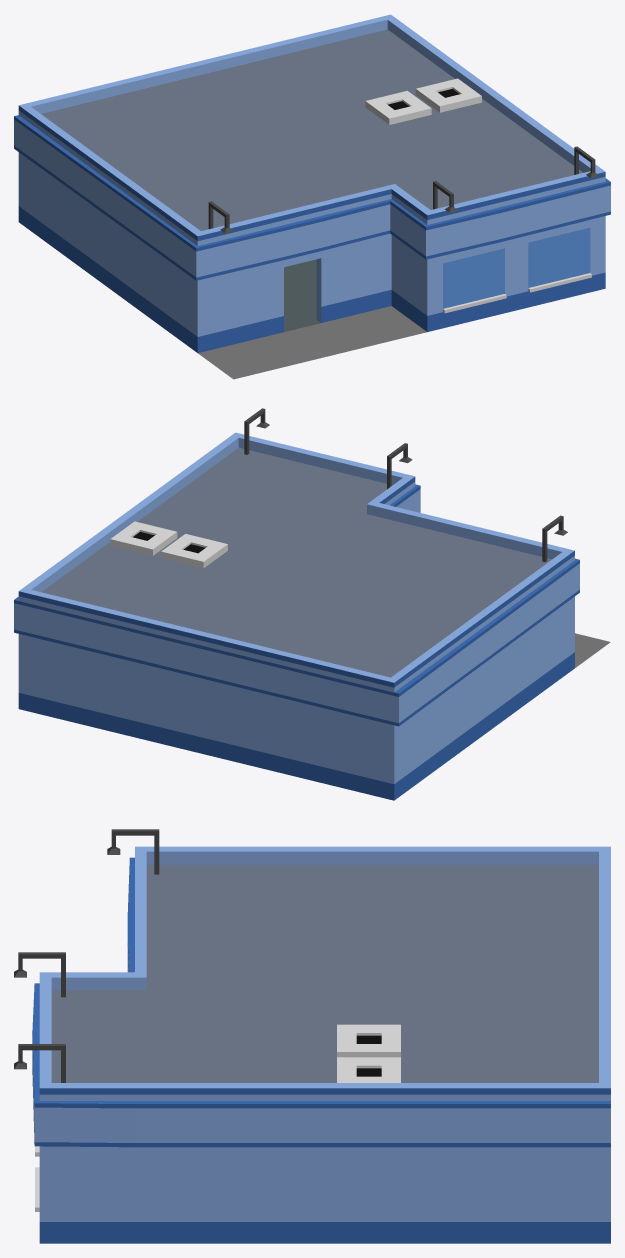
The model's file is Building4.fbx.
3 views of the same model, one above another, from view 1: azimuth 30°, elevation 25°; view 2: azimuth 150°, elevation 25°; view 3: azimuth 270°, elevation 25° (orthographic). The views are drawn at different scales.
Visible parts, largest first — view 1: Building4, Building4Roof; view 2: Building4, Building4Roof; view 3: Building4, Building4Roof.
Boxes of the visible parts, left/top/right/bottom form: Building4: left=14, top=14, right=610, bottom=379; Building4Roof: left=41, top=29, right=599, bottom=233; Building4: left=14, top=432, right=610, bottom=800; Building4Roof: left=41, top=408, right=567, bottom=677; Building4: left=32, top=846, right=610, bottom=1243; Building4Roof: left=14, top=829, right=598, bottom=1082.
Bounding box in the file's own units: 1230 × 430 × 1254.
